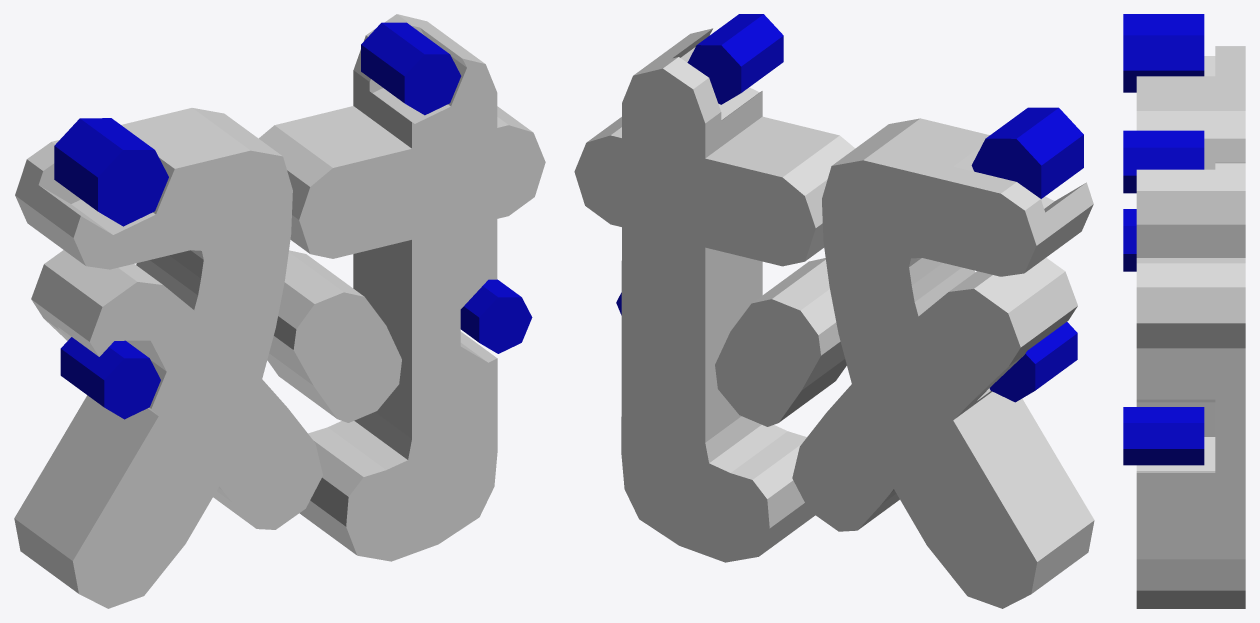
Rendered from Ch_Lite_China_对_01.fbx.
3 renders of one model, left to right at view 1: azimuth 30°, elevation 25°; view 2: azimuth 150°, elevation 25°; view 3: azimuth 270°, elevation 25°, orthographic. The views are drawn at different scales.
Parts seen in each view (by area): view 1: sphere1; view 2: sphere1; view 3: sphere1.
Boxes of the visible parts, x1,y1,x2,y2 form: sphere1: [14, 14, 545, 608]; sphere1: [574, 14, 1094, 608]; sphere1: [1123, 14, 1245, 608].
Size of the model in its own units: 0.9326 by 0.9534 by 0.2242.
